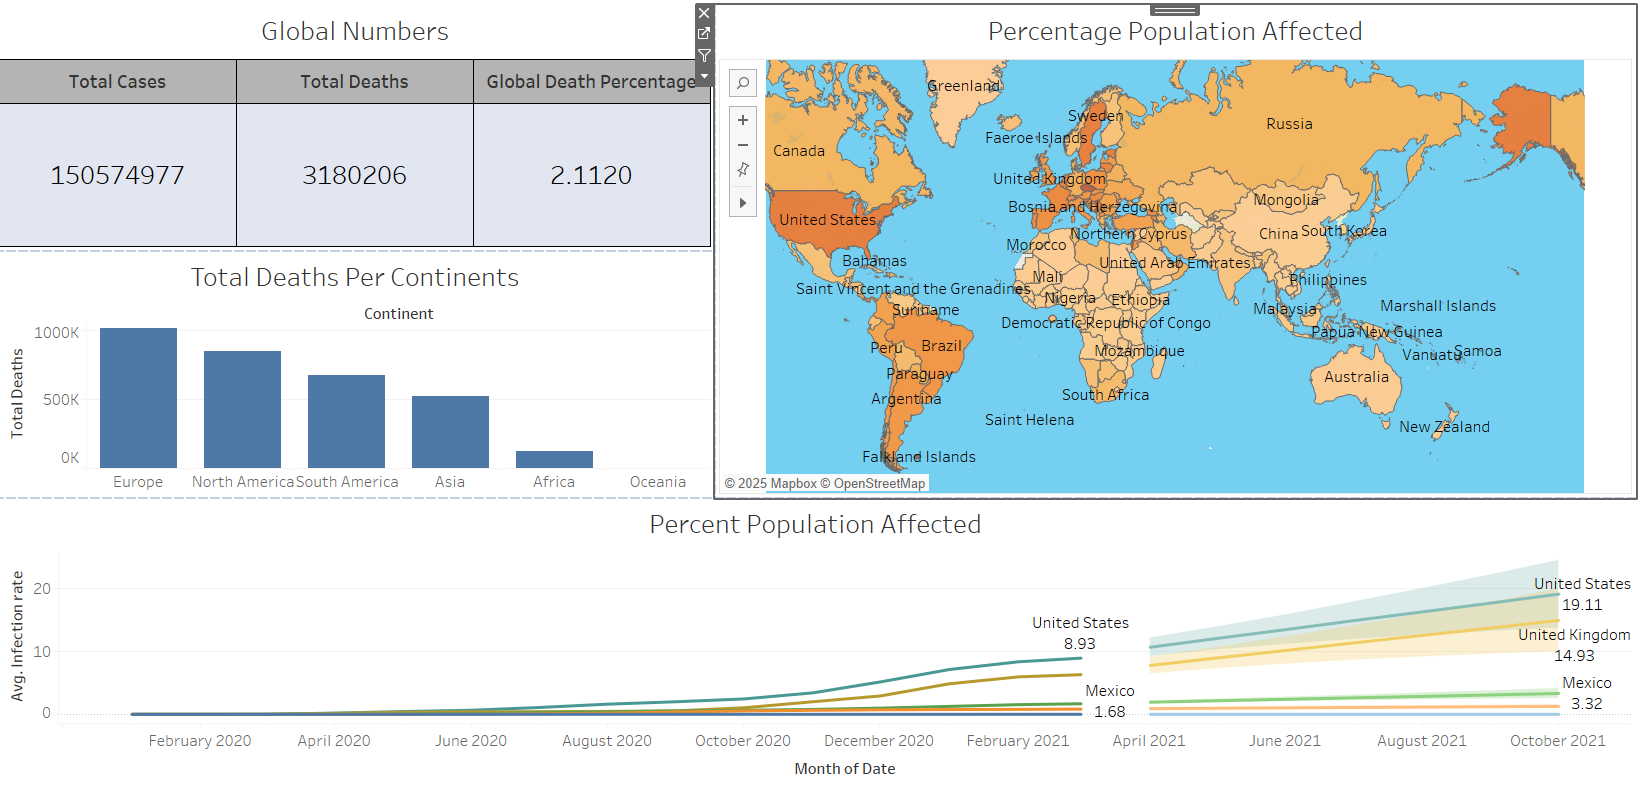

What the dashboard file says about the page in this screenshot:
{"tool":"tableau","page":{"name":"Dashboard 1","canvas":[1000,1000],"units":"permille","ordinal":0},"visuals":[{"type":"worksheet","title":"Sheet 1","mark":"Automatic","box":[4.8,9.4,495.2,307.8]},{"type":"worksheet","title":"Sheet 5","mark":"Automatic","box":[500,9.4,495.2,615.6]},{"type":"worksheet","title":"Sheet 2","mark":"Automatic","rows":["total_deaths"],"cols":["continent"],"box":[4.8,317.2,495.2,307.8]},{"type":"worksheet","title":"Sheet 4","mark":"Automatic","rows":["Highest_infection_rate"],"cols":["date"],"box":[4.8,625,990.3,365.6]}]}

Visuals, with their boxes on the dashboard's canvas, which has no fixed pixel size, in thousandths of its width and height (x1, y1, x2, y2). These are canvas units, not pixel positions in the 1640x794 screenshot, which may show the page scaled, cropped or inside an application window:
"Sheet 1" worksheet: <box>5,9,500,317</box>
"Sheet 5" worksheet: <box>500,9,995,625</box>
"Sheet 2" worksheet: <box>5,317,500,625</box>
"Sheet 4" worksheet: <box>5,625,995,991</box>
